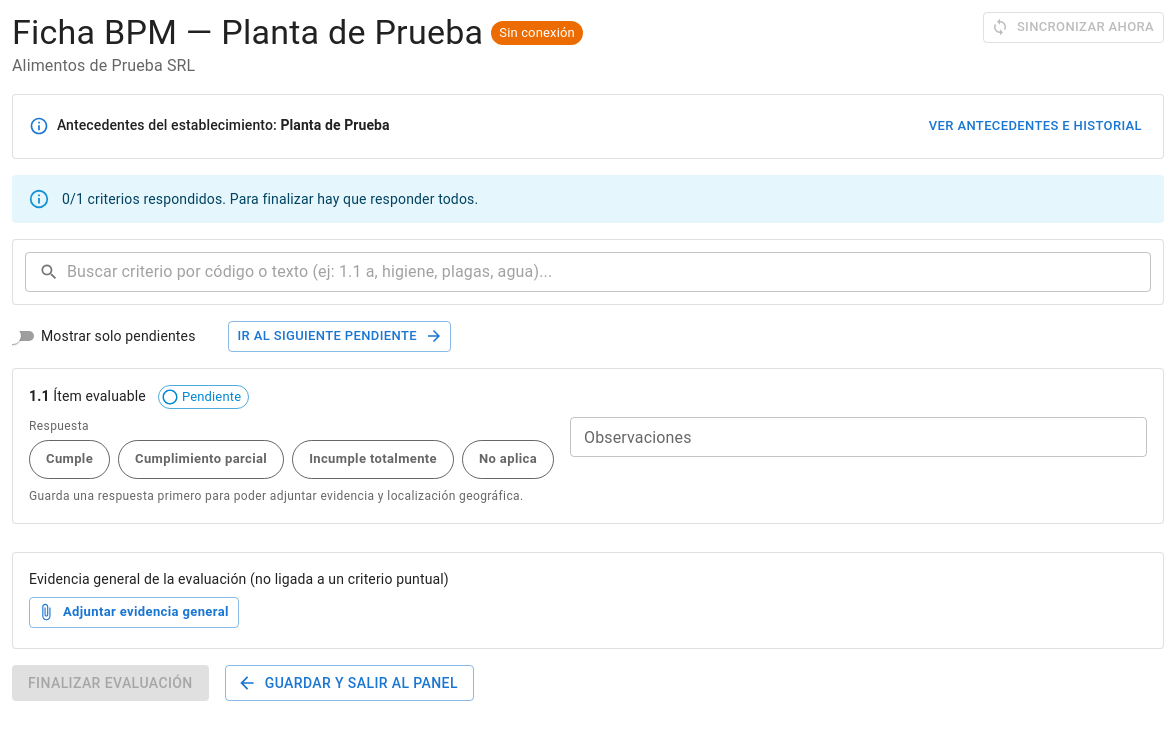
Test case: EjecutarEvaluacion — sin conexión › el aviso "guardado localmente" se quita cuando la operación se sincroniza › respuesta de un criterio: sigue visible si el evento llega pero la operación todavía está pendiente
Expected: the text "Ítem evaluable" is shown, x1=53 y1=388 x2=146 y2=404
Click the button "Cumple" at [70, 460], box x1=29 y1=440 x2=110 y2=479
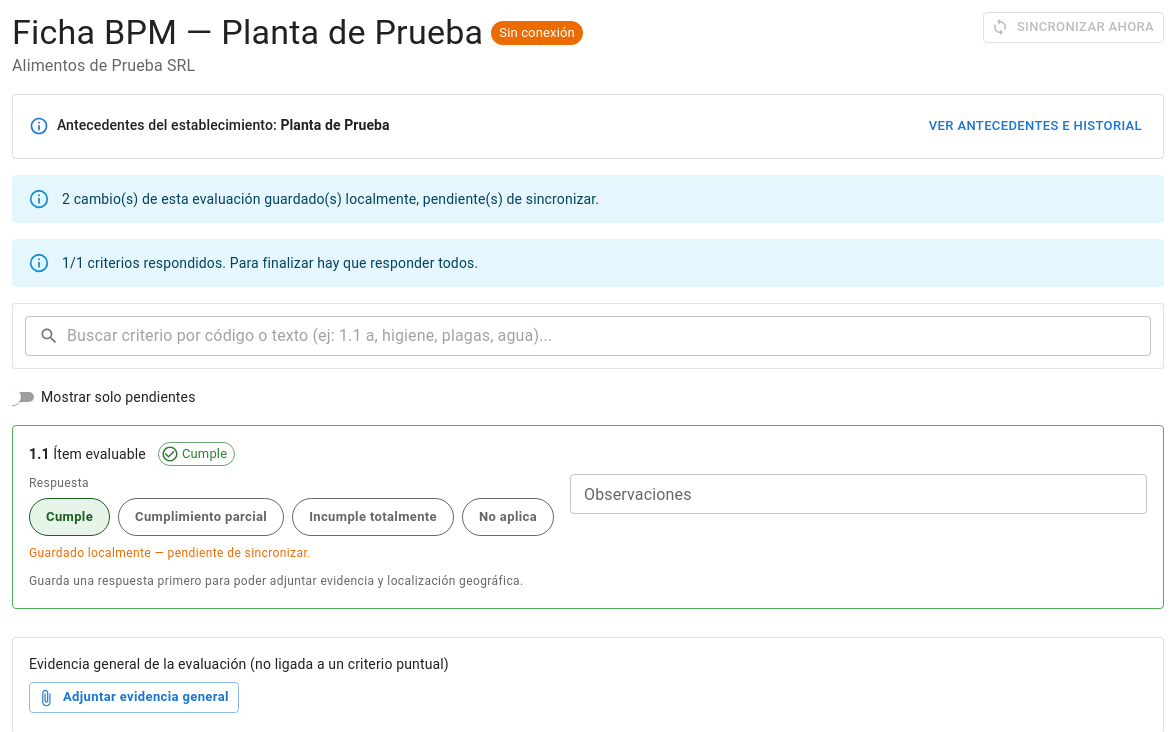
Expected: the text "Guardado localmente — pendiente de sincronizar." is shown, x1=29 y1=546 x2=311 y2=560
